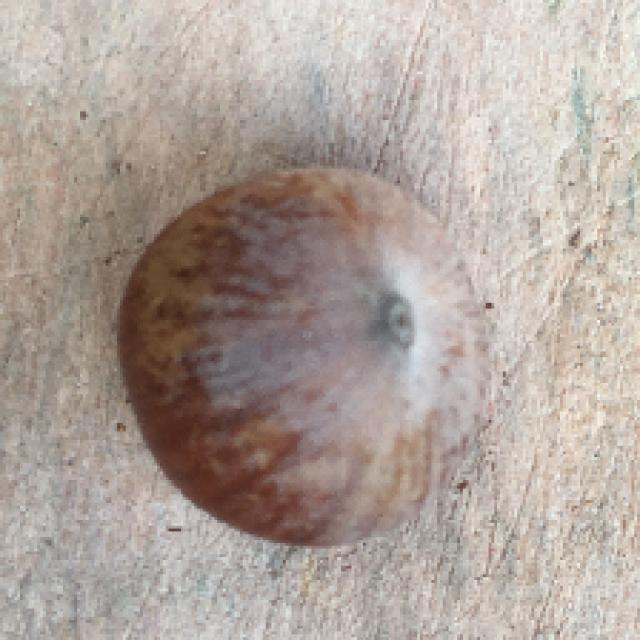qualityHazelnut: (116, 166, 489, 548)
